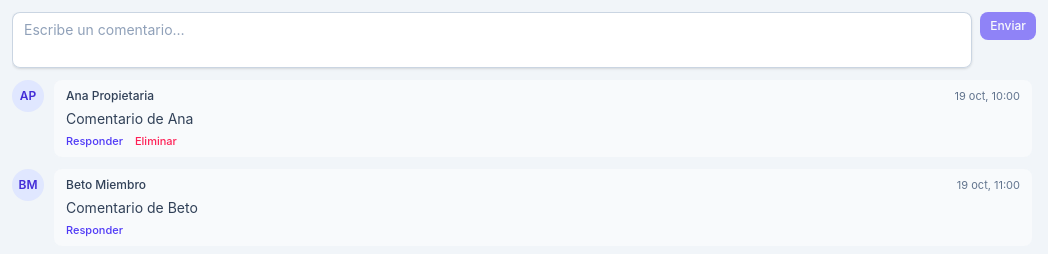
Test: CommentThread › deletes your own comment
Expected: the text "Comentario de Ana" is shown, left=66, top=110, right=193, bottom=126
What coordinates should you click on to do the following:
click the button "Eliminar"
I would click on:
 (156, 141)
Its box is left=135, top=132, right=177, bottom=149.
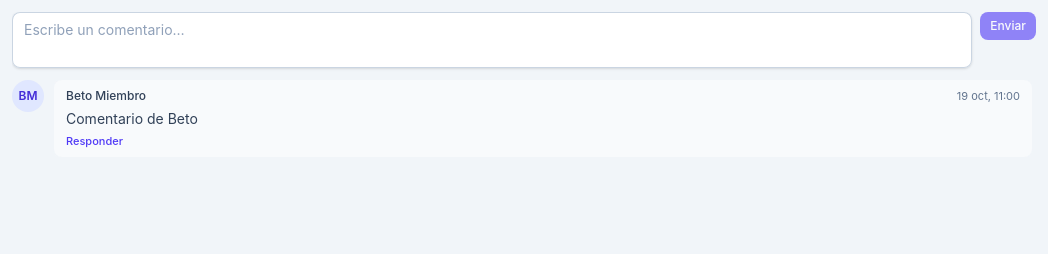
Expected: the text "Comentario de Beto" is shown, left=66, top=110, right=198, bottom=126
Expected: the text "Comentario de Ana" is gone
